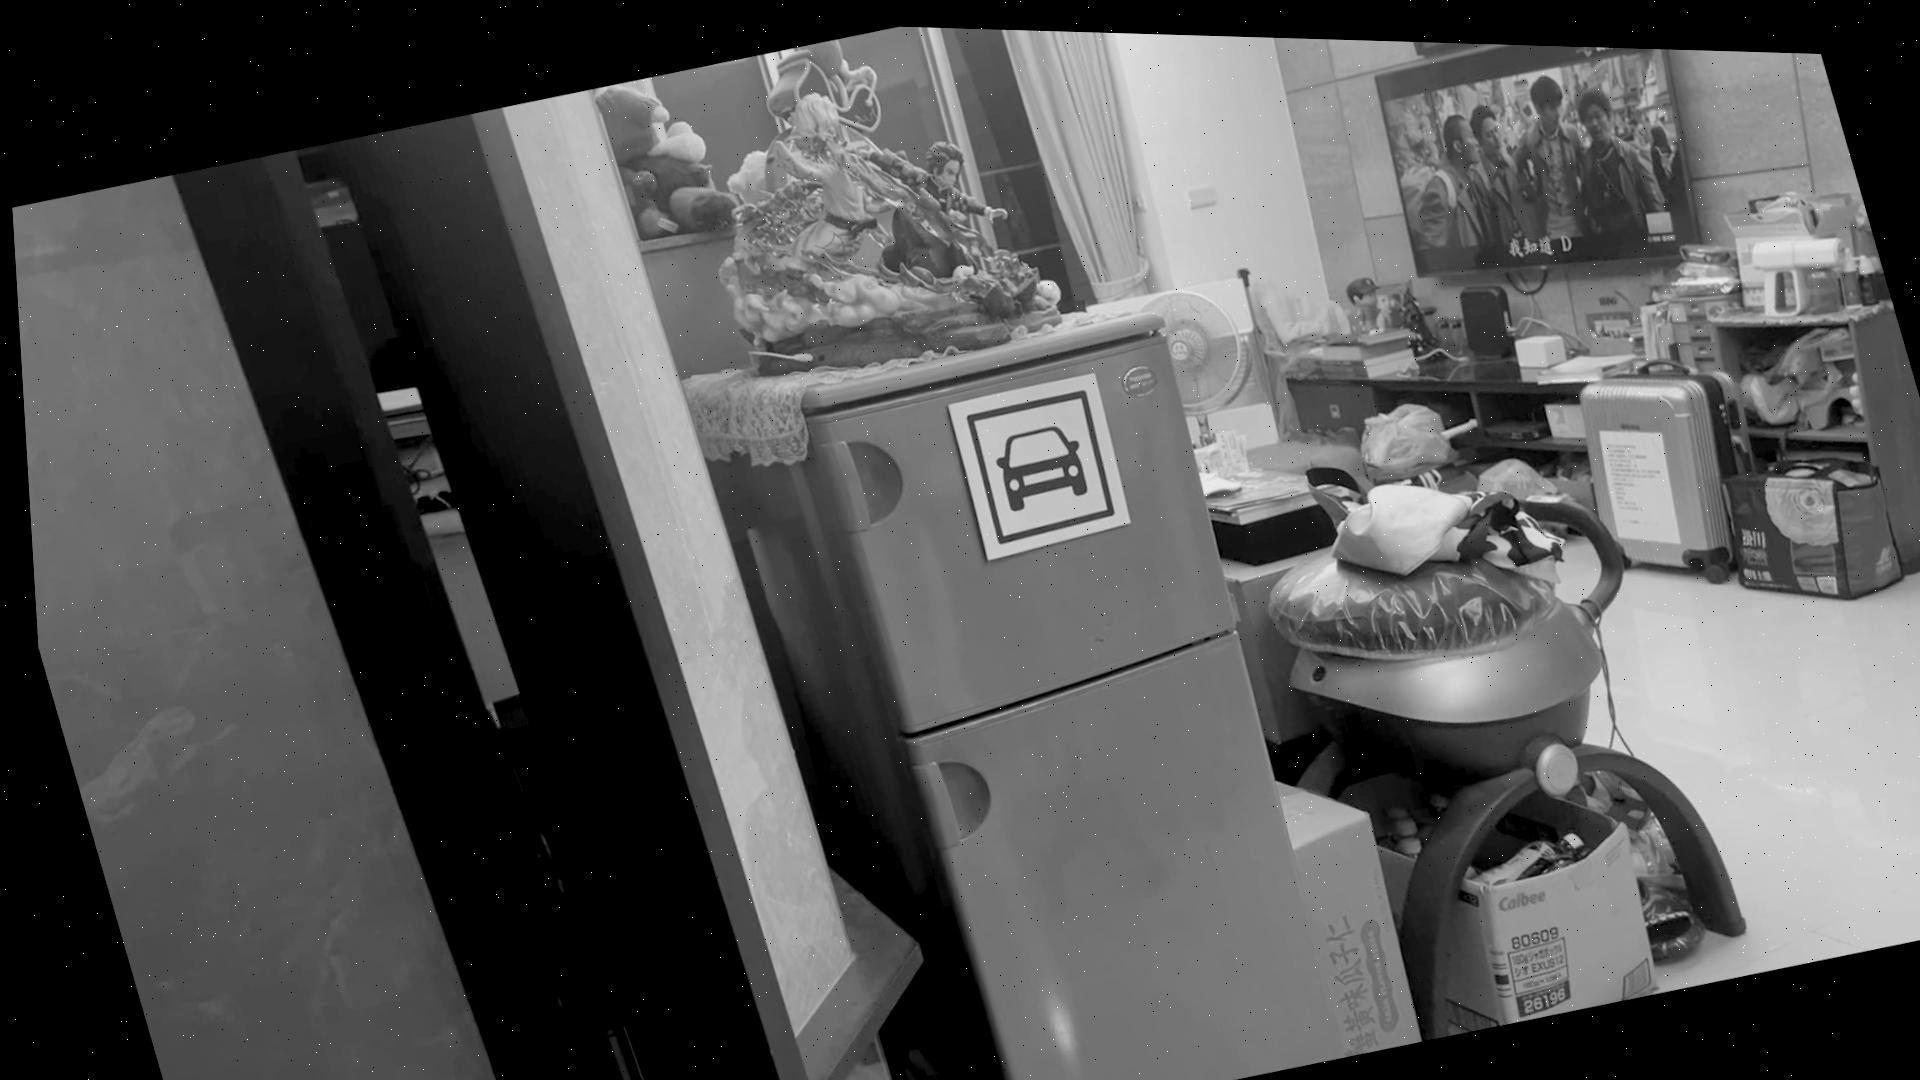car_img: (955, 378, 1118, 543)
